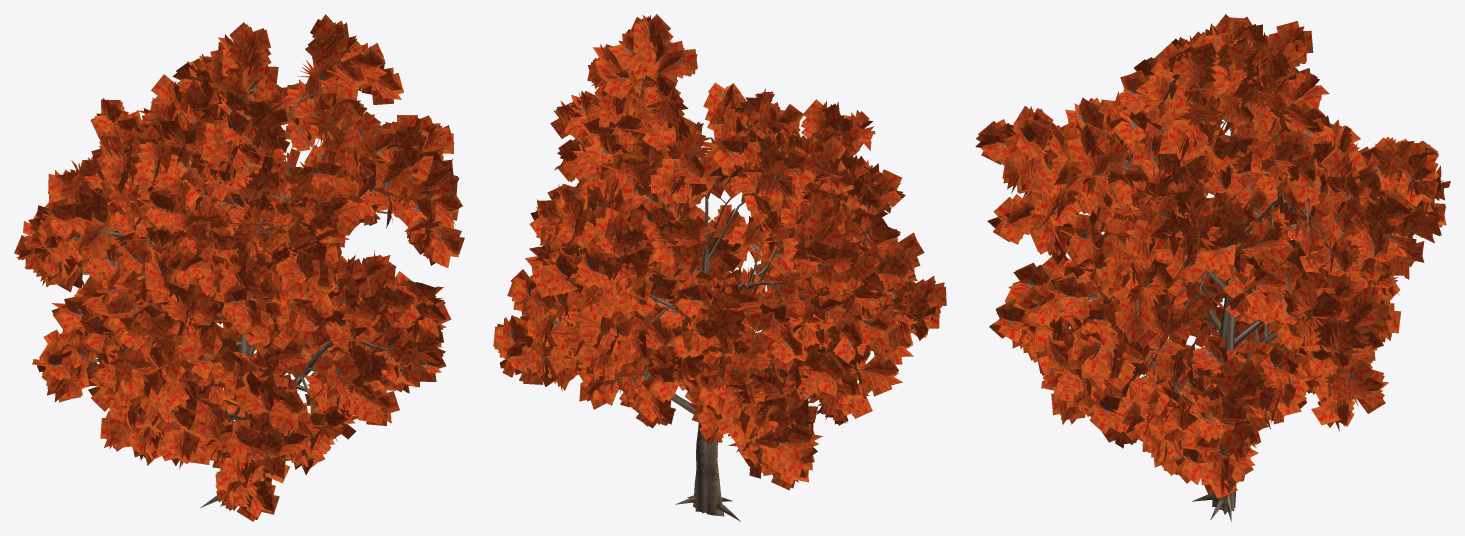
The model's file is maple-fall.gltf.
3 renders of one model, left to right at view 1: azimuth 30°, elevation 25°; view 2: azimuth 150°, elevation 25°; view 3: azimuth 270°, elevation 25°, orthographic. The views are drawn at different scales.
Parts seen in each view (by area): view 1: Sugar maple Fall; view 2: Sugar maple Fall; view 3: Sugar maple Fall.
Boxes of the visible parts, x1,y1,x2,y2 form: Sugar maple Fall: (14,14,464,521); Sugar maple Fall: (493,14,946,521); Sugar maple Fall: (975,14,1450,521).
Bounding box in the file's own units: 759 × 891 × 758.
2 materials, 2 textured.
